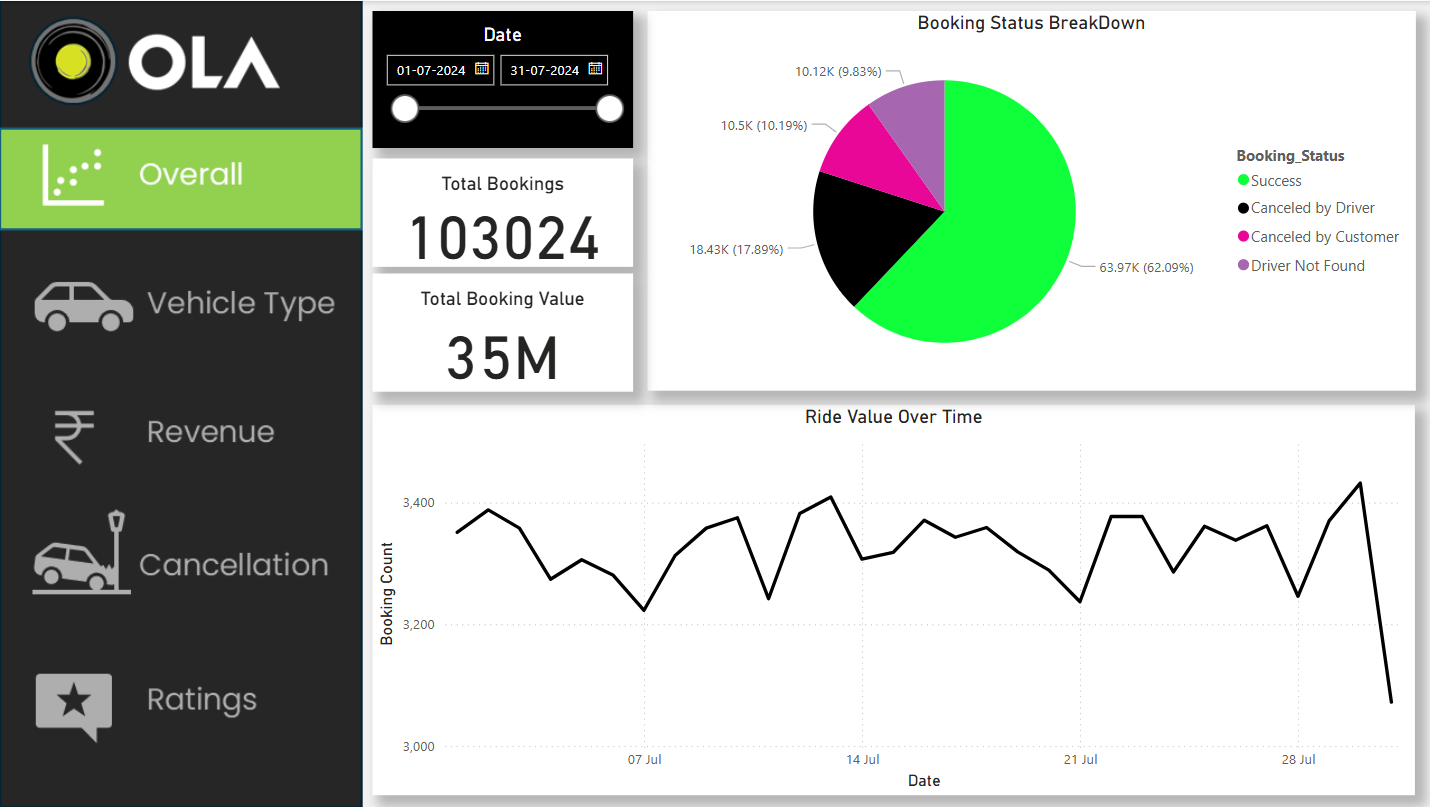

This screenshot's page, from the dashboard's own definition file:
{"tool":"powerbi","page":{"name":"Overall","canvas":[1280,720],"ordinal":0},"visuals":[{"type":"actionButton","box":[0,220,323.8,92.5],"z":0},{"type":"actionButton","box":[0,343.8,323.8,92.5],"z":1000},{"type":"actionButton","box":[0,458.8,323.8,92.5],"z":2000},{"type":"actionButton","box":[0,576.2,323.8,92.5],"z":3000},{"type":"lineChart","title":"Ride Value Over Time","fields":{"Y":["CountNonNull(July.Booking_ID)"],"Category":["July.Date"]},"box":[332.6,360.5,931.4,348.8],"z":4000},{"type":"pieChart","title":"Booking Status BreakDown","fields":{"Category":["July.Booking_Status"],"Y":["CountNonNull(July.Booking_ID)"]},"box":[577.9,9.3,686,339.5],"z":5000},{"type":"slicer","title":"Date","fields":{"Values":["July.Date"]},"box":[332.6,9.3,232.6,122.1],"z":6000},{"type":"card","title":"Total Bookings","fields":{"Values":["CountNonNull(July.Booking_ID)"]},"box":[332.6,140.7,232.6,96.5],"z":7000},{"type":"card","title":"Total Booking Value","fields":{"Values":["Sum(July.Booking_Value)"]},"box":[332.6,243,232.6,105.8],"z":8000}]}

Visuals, with their boxes in screenshot pixels (x1, y1, x2, y2), scaled from the page's 1280x720 canvas onto the 1430x807 screenshot:
actionButton: bbox=(0, 247, 362, 350)
actionButton: bbox=(0, 385, 362, 489)
actionButton: bbox=(0, 514, 362, 618)
actionButton: bbox=(0, 646, 362, 750)
"Ride Value Over Time" lineChart: bbox=(372, 404, 1412, 795)
"Booking Status BreakDown" pieChart: bbox=(646, 10, 1412, 391)
"Date" slicer: bbox=(372, 10, 631, 147)
"Total Bookings" card: bbox=(372, 158, 631, 266)
"Total Booking Value" card: bbox=(372, 272, 631, 391)
